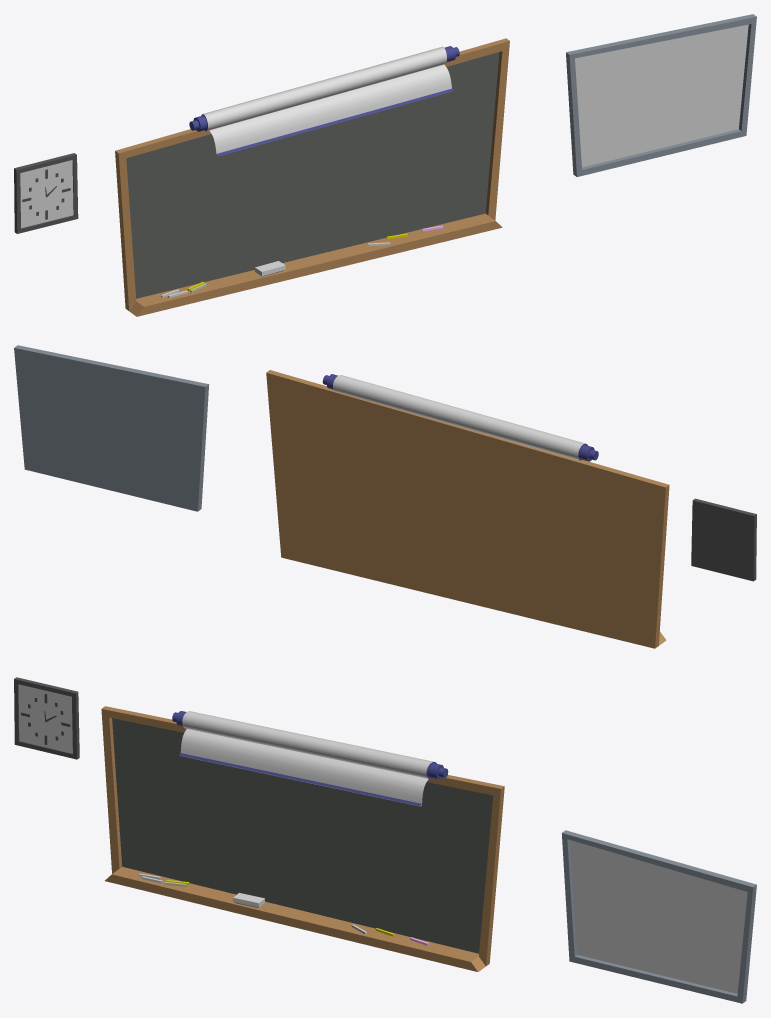
The model's file is clock_board.fbx.
The picture shows the model from 3 angles, top to bottom: view 1: azimuth 30°, elevation 25°; view 2: azimuth 150°, elevation 25°; view 3: azimuth 330°, elevation 25°; orthographic projection. The views are drawn at different scales.
Parts seen in each view (by area): view 1: clock_boards; view 2: clock_boards; view 3: clock_boards.
Boxes of the visible parts, x1,y1,x2,y2 form: clock_boards: [14, 14, 756, 316]; clock_boards: [14, 345, 756, 648]; clock_boards: [14, 677, 756, 1003].
Bounding box in the file's own units: 1045 × 256 × 54.81.
